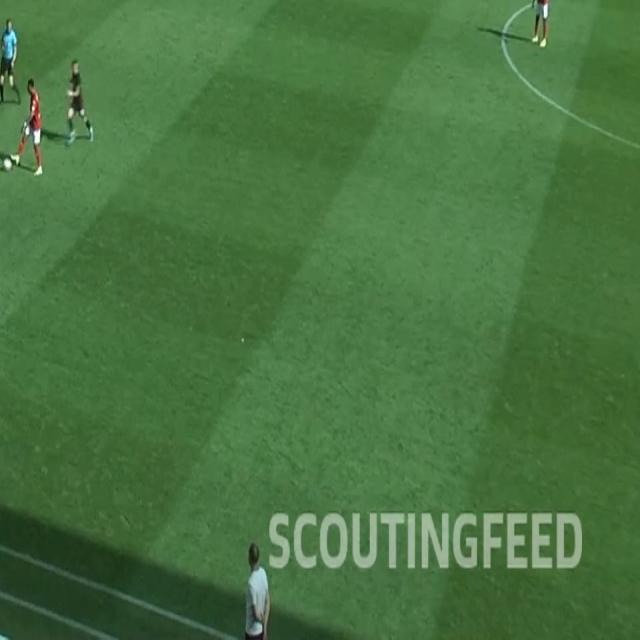ball: (3, 156, 13, 172)
